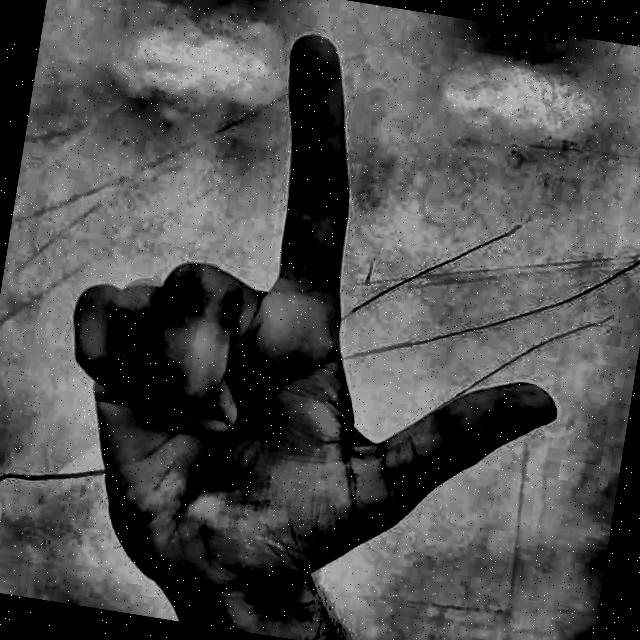La: (0, 0, 623, 640)
